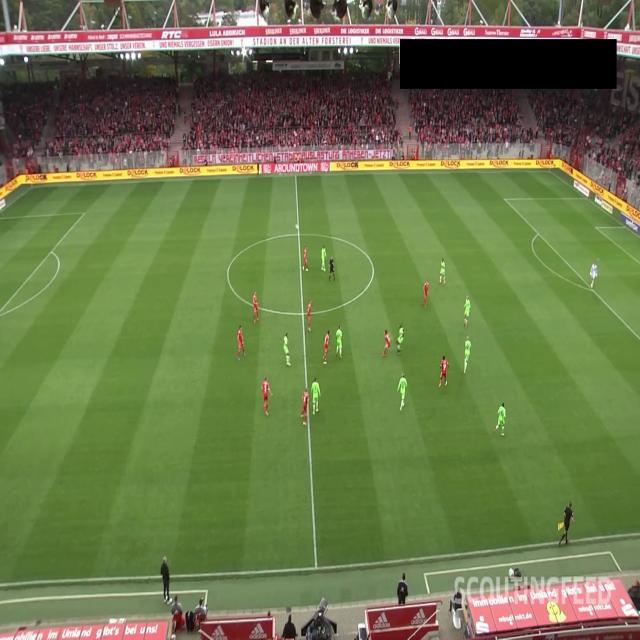Ball: (296, 224, 299, 231)
GoalKeeper: (590, 261, 598, 288)
Referee: (558, 500, 574, 544), (329, 256, 335, 282), (256, 161, 260, 176)
TEAM 1: (261, 376, 273, 418), (237, 326, 246, 362), (439, 356, 449, 386), (322, 330, 330, 365), (301, 388, 308, 426), (253, 292, 260, 324), (383, 330, 391, 356), (306, 300, 312, 331), (423, 280, 429, 308), (302, 246, 308, 273)
TEAM 2: (494, 401, 506, 437), (397, 374, 408, 412), (463, 336, 472, 376), (311, 378, 320, 415), (462, 295, 471, 327), (283, 333, 291, 367), (335, 326, 343, 358), (397, 324, 404, 352), (439, 258, 446, 285), (322, 245, 328, 272)
